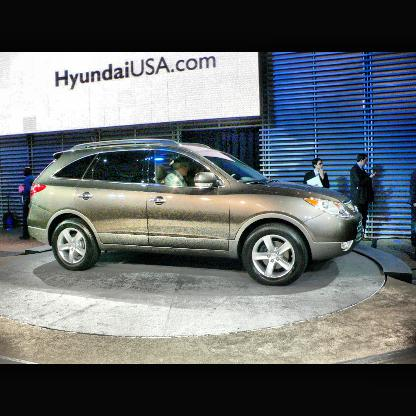Hyundai Veracruz SUV 2012: (31, 141, 360, 288)
